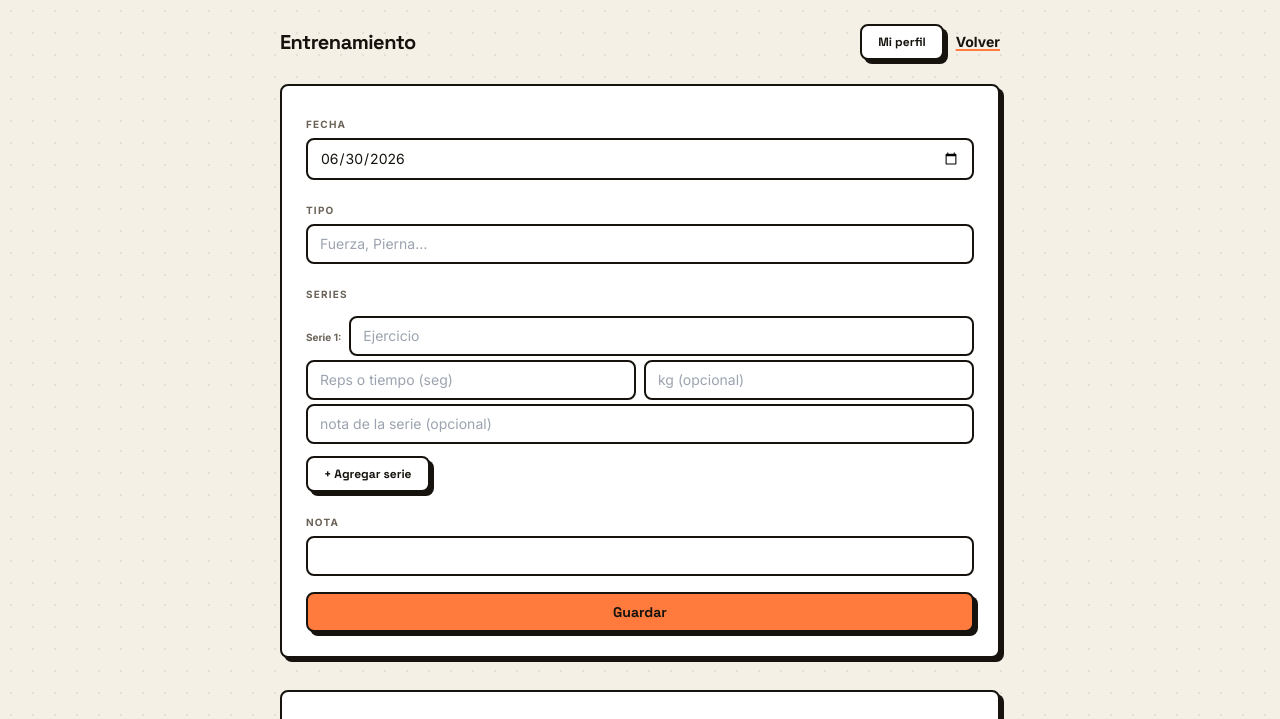
EntrenamientoPage › abre Mi perfil y precarga el objetivo
What coordinates should you click on to do the following:
click the button "Mi perfil"
I would click on:
 (902, 42)
Its box is x1=860 y1=24 x2=944 y2=60.
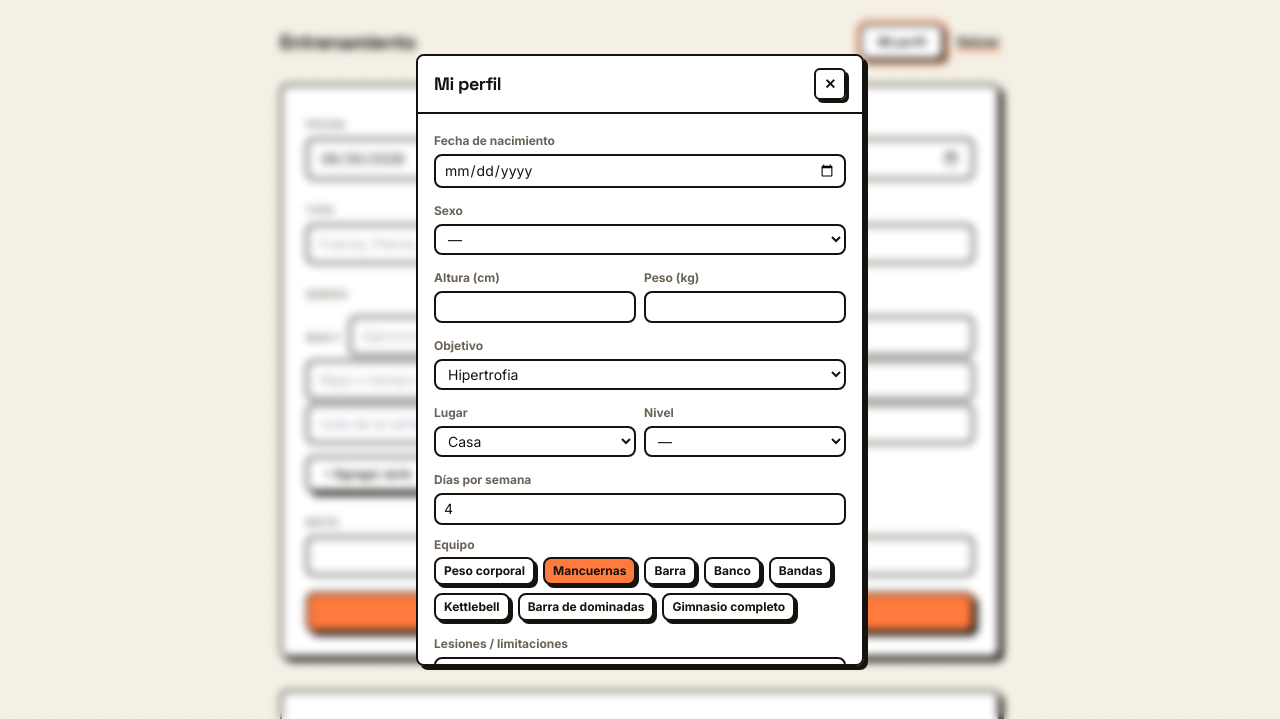
Now the dropdown labelled "Objetivo" shows "Hipertrofia", box x1=434 y1=359 x2=846 y2=390
